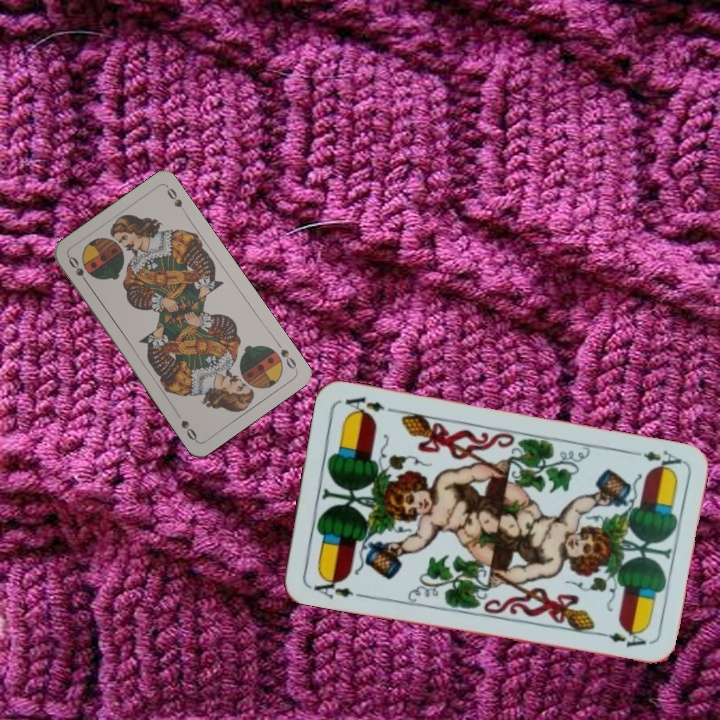EA: (625, 446, 684, 475), (309, 571, 365, 601)
SO: (64, 252, 92, 288), (272, 337, 300, 373)
